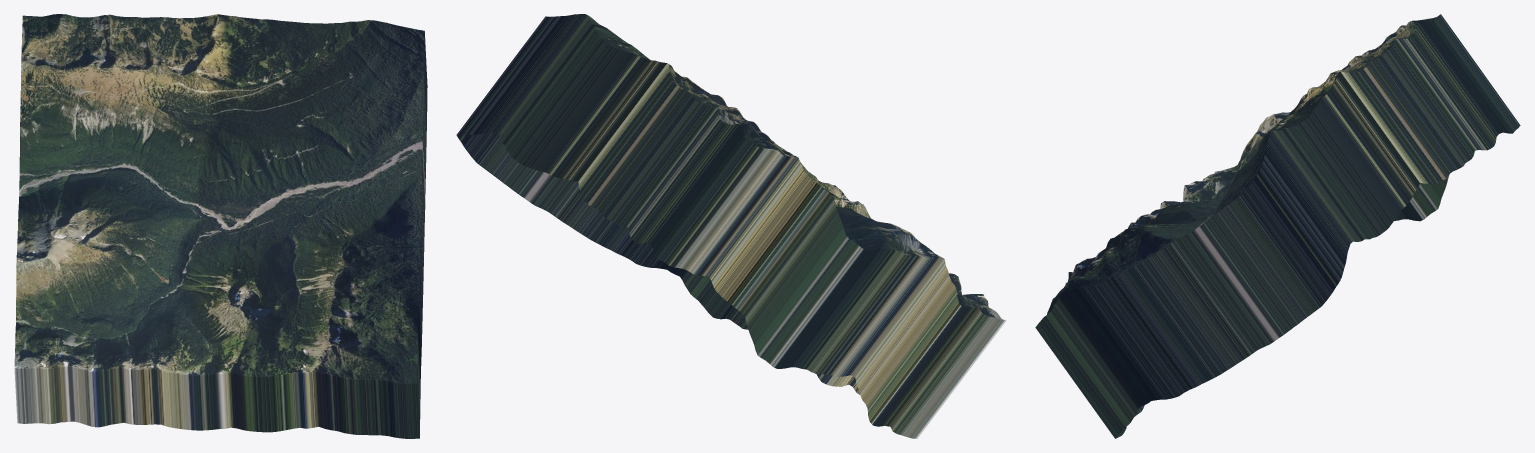
3 renders of one model, left to right at view 1: azimuth 30°, elevation 25°; view 2: azimuth 150°, elevation 25°; view 3: azimuth 270°, elevation 25°, orthographic. The views are drawn at different scales.
Bounding box in the file's own units: 11266 × 7996 × 10613.
Materials: 1 (1 with a texture image).
